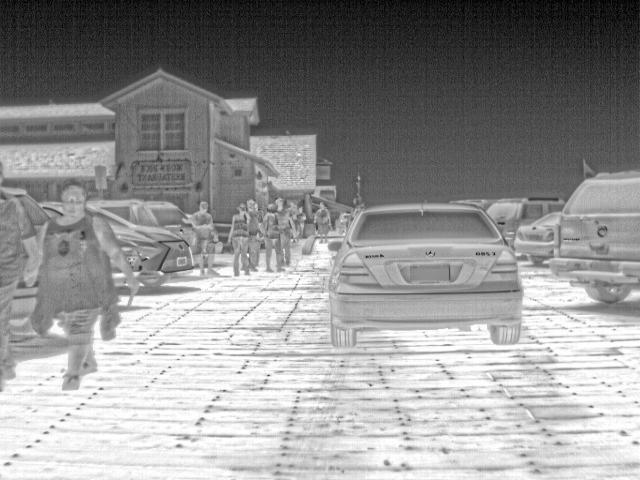car: (327, 204, 530, 348), (547, 167, 639, 306), (88, 207, 196, 285), (89, 194, 196, 248), (482, 198, 568, 244), (510, 212, 565, 266), (2, 184, 50, 234)
person: (26, 182, 144, 389), (1, 162, 40, 392), (190, 204, 225, 276), (259, 202, 285, 274), (228, 204, 251, 276), (275, 200, 298, 264), (312, 200, 334, 243), (295, 205, 309, 238)
